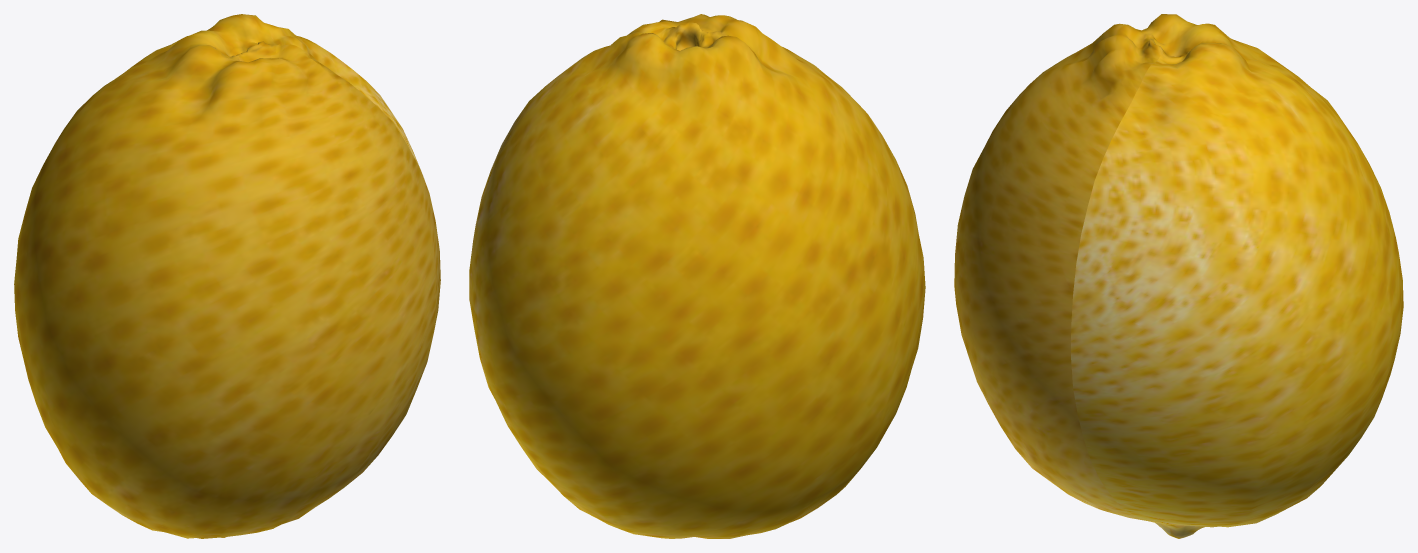
File: Lemon.fbx
3 renders of one model, left to right at view 1: azimuth 30°, elevation 25°; view 2: azimuth 150°, elevation 25°; view 3: azimuth 270°, elevation 25°, orthographic.
Visible parts, largest first — view 1: Lime; view 2: Lime; view 3: Lime.
Boxes of the visible parts, x1=… form: Lime: x1=14, y1=14, x2=440, y2=538; Lime: x1=469, y1=14, x2=925, y2=538; Lime: x1=954, y1=14, x2=1403, y2=538.
Size of the model in its own units: 5.99 by 7.52 by 6.1.
Materials: 1 (1 with a texture image).
